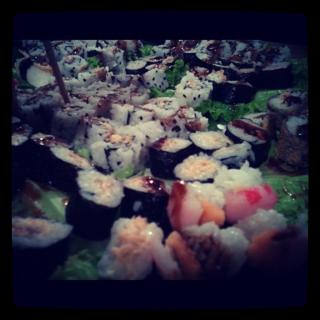Sushi: (10, 38, 309, 278), (64, 170, 124, 237)
